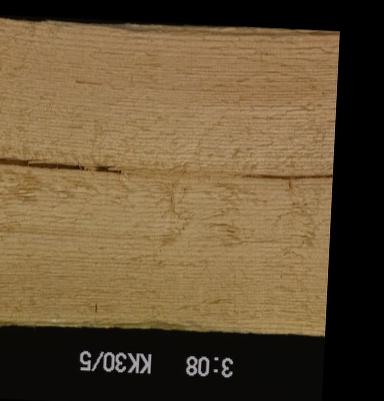wave: (103, 24, 299, 41)
